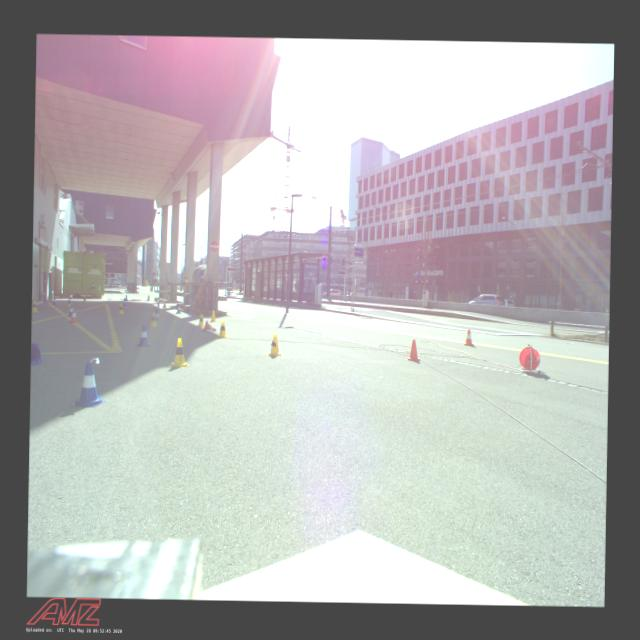blue_cone: (70, 362, 106, 408), (136, 324, 152, 346), (31, 342, 42, 364), (153, 308, 161, 320), (68, 304, 74, 316), (176, 304, 182, 314), (52, 296, 58, 305), (199, 272, 204, 282), (122, 298, 127, 306), (156, 302, 160, 310), (69, 292, 73, 299), (90, 282, 94, 288), (125, 295, 128, 301)
orange_cone: (405, 338, 421, 362), (462, 328, 475, 346), (68, 308, 78, 323), (204, 320, 216, 331), (162, 300, 167, 308)
yellow_cone: (168, 338, 191, 368), (266, 333, 282, 356), (218, 320, 228, 338), (149, 312, 158, 327), (197, 314, 205, 328), (117, 303, 125, 314), (210, 310, 217, 322), (32, 300, 38, 312), (66, 298, 72, 308), (82, 295, 87, 302), (183, 274, 187, 281), (146, 294, 150, 300), (167, 285, 170, 292)
